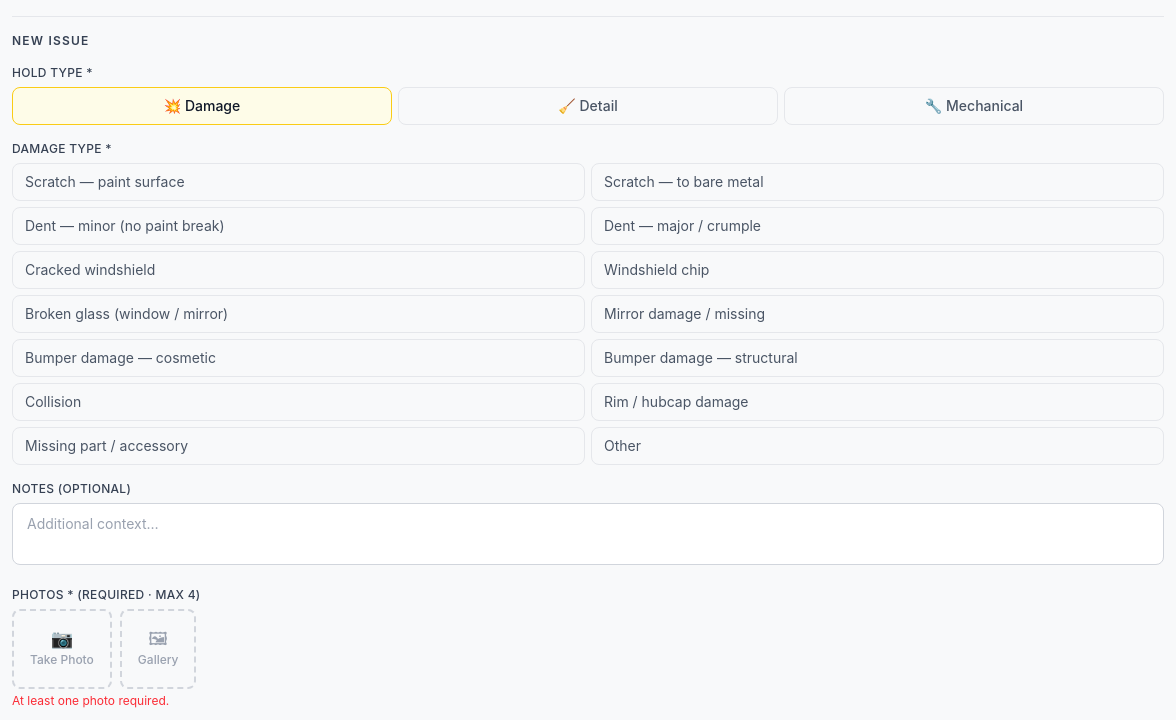
NewIssueReHoldForm — hold type switch › switching to detail reveals the description field and hides damage presets
The width and height of the screenshot is (1176, 720).
Click the button "🧹 Detail": (588, 106) [398,87,778,125]
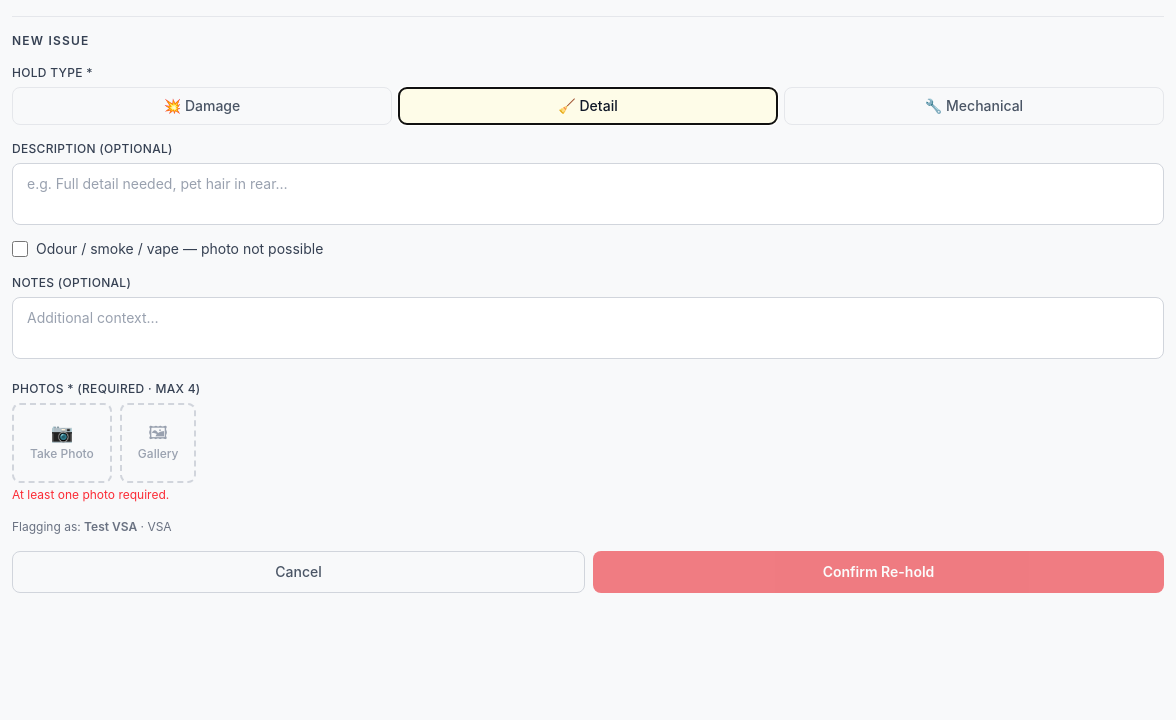
Expected: the text "Damage Type *" is gone
Expected: the text "Odour / smoke / vape — photo not possible" is shown, [36,239,323,259]
